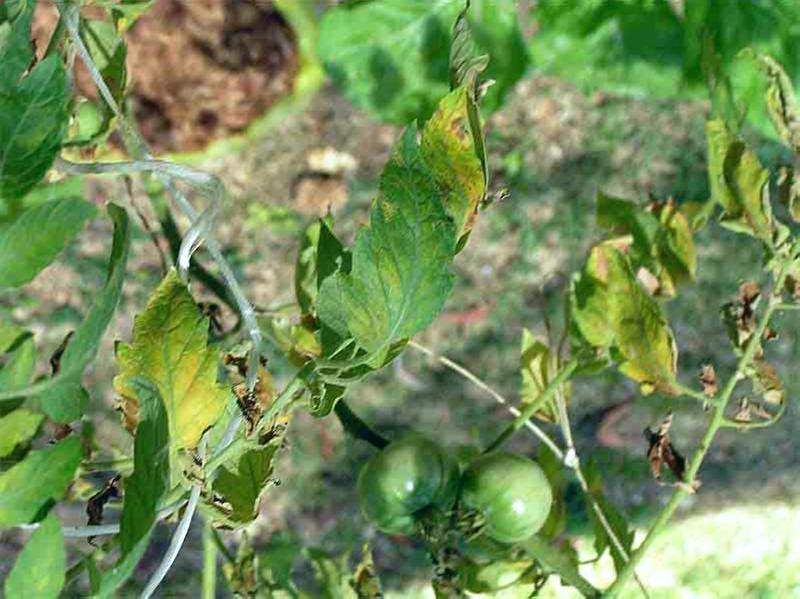Tomato mold leaf: (335, 61, 498, 354), (92, 251, 236, 464), (595, 253, 692, 396)
